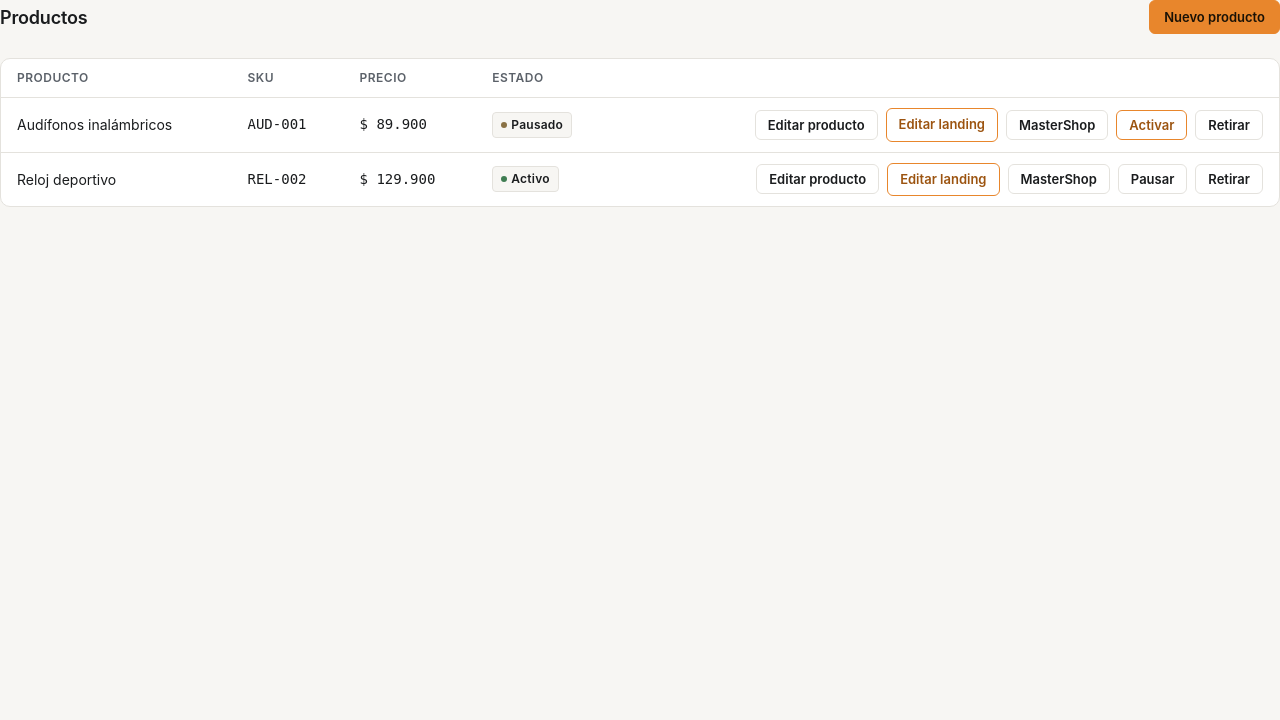
Test case: ProductsPage › opens a create-product form from the Nuevo producto button
Expected: the text "Audífonos inalámbricos" is shown, [1,98,232,152]
Click the button "Nuevo producto" at (1215, 17), box [1149,0,1279,34]
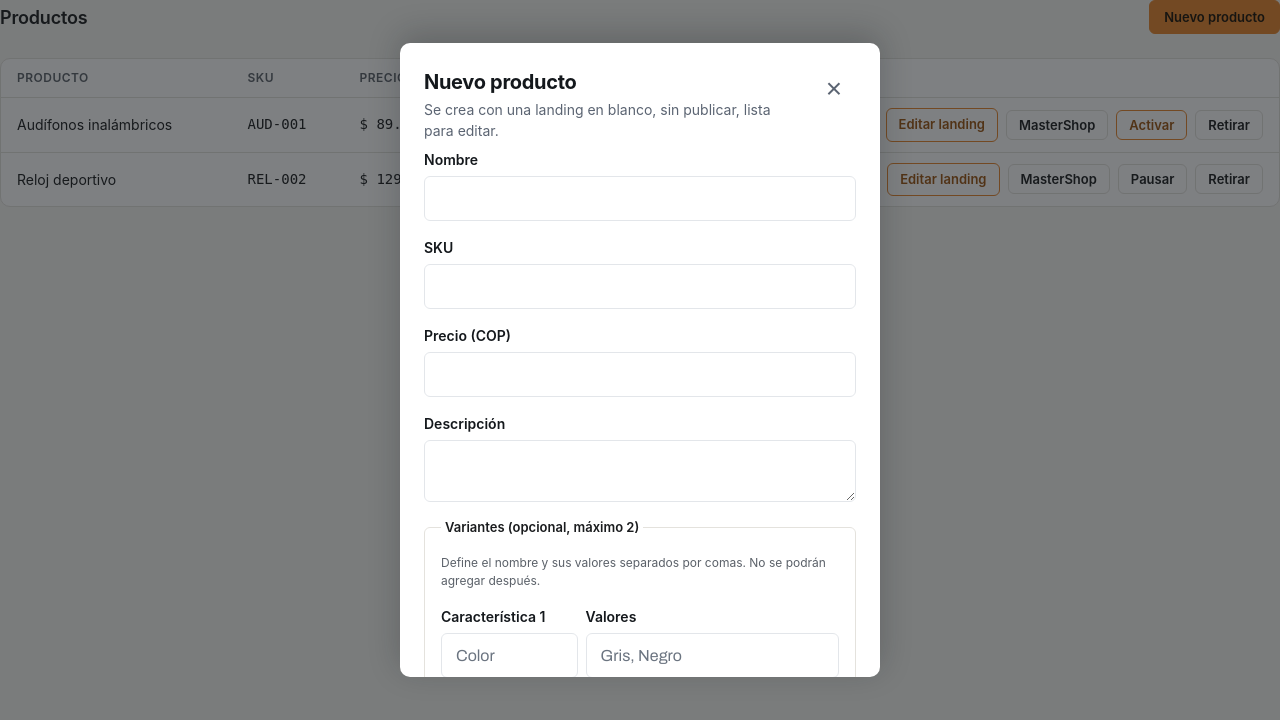
Expected: the field labelled "SKU" is shown, [424,264,856,309]
Result: the dialog "Nuevo producto" is shown at [400,43,880,677]
Result: the field labelled "Nombre" is shown at [424,176,856,221]
